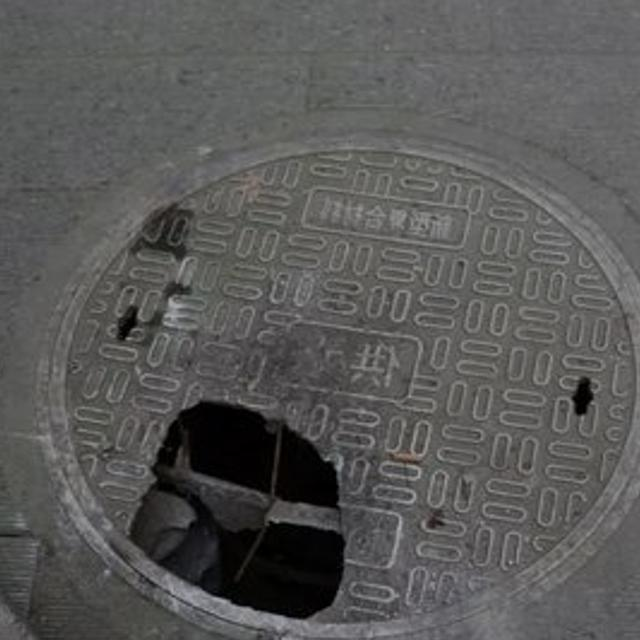broke: (15, 102, 640, 640)
